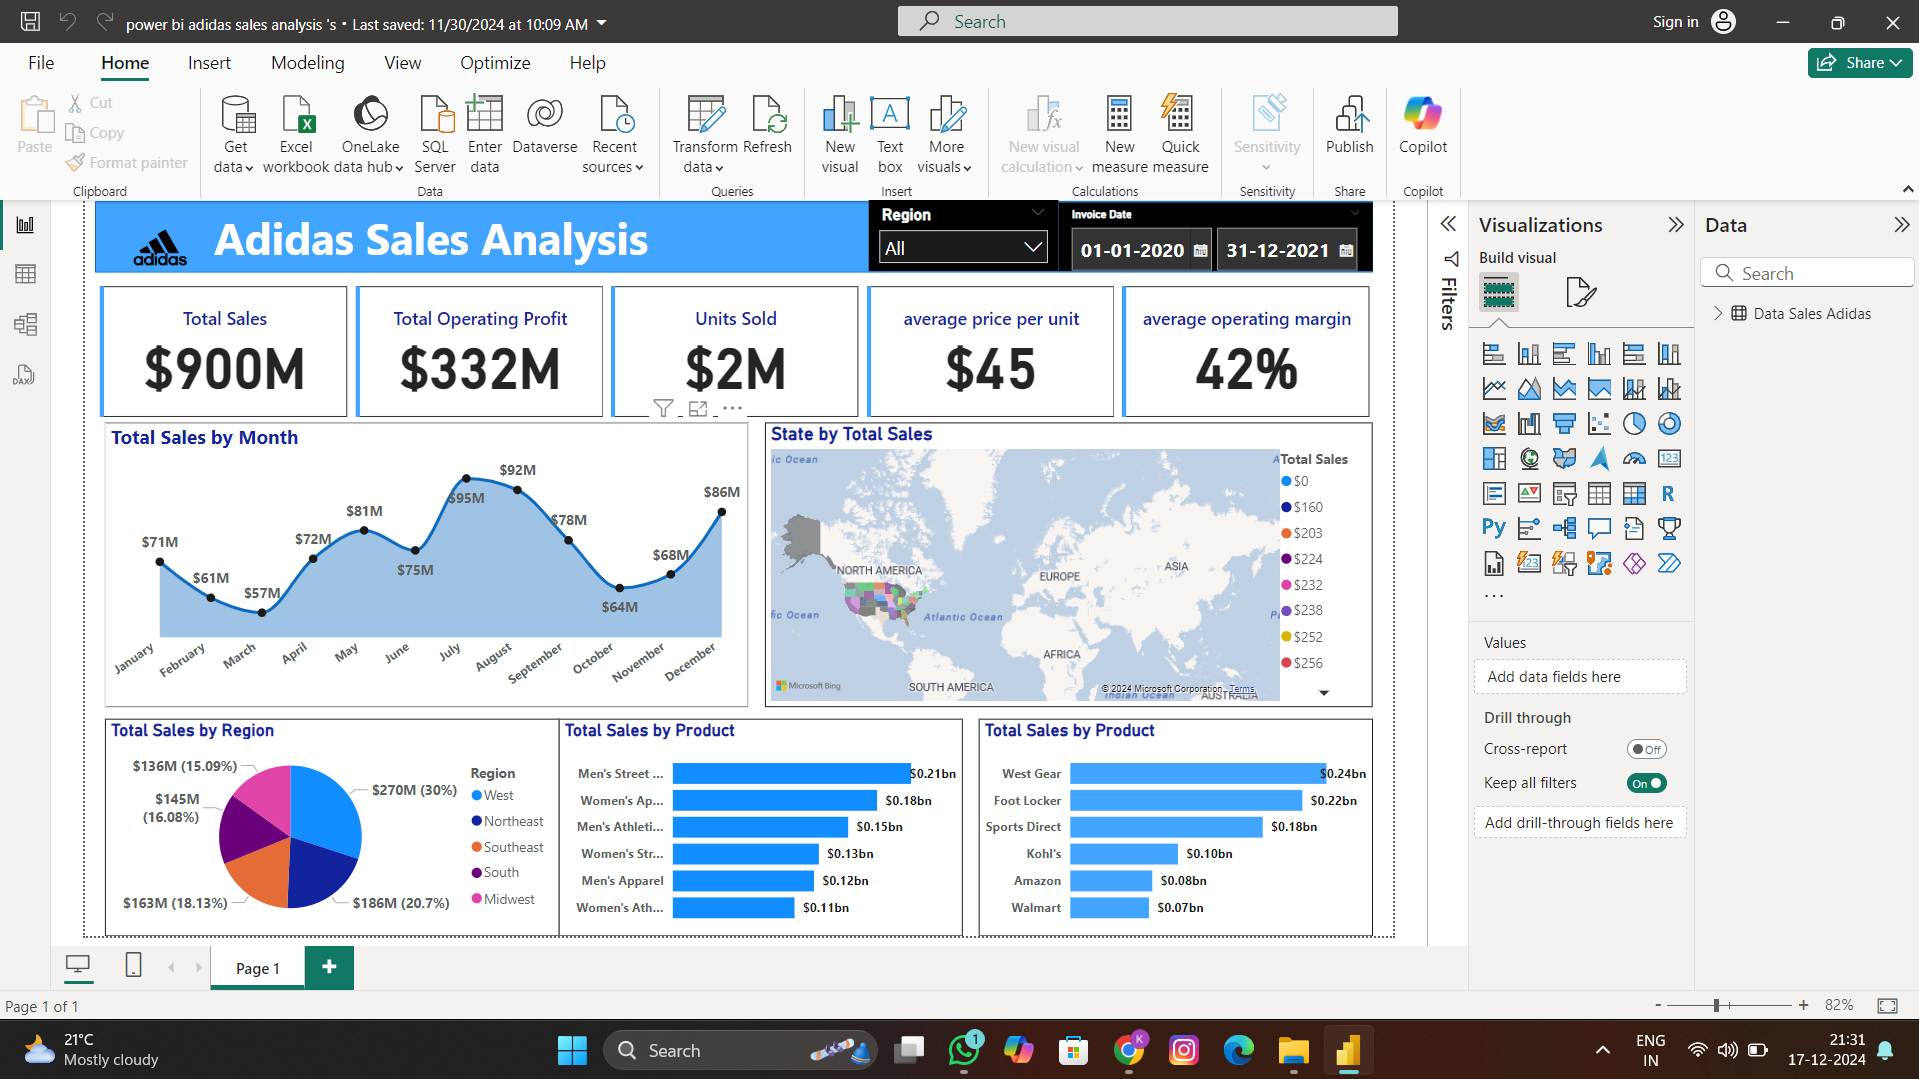

Layout of this report page (visuals, bound fields, positions):
{"tool":"powerbi","page":{"name":"Page 1","canvas":[1280,720],"ordinal":0},"visuals":[{"type":"shape","box":[9.6,1.4,1250.1,70],"z":0},{"type":"textbox","box":[120.8,2.7,518.7,67.2],"z":1000},{"type":"cardVisual","fields":{"Data":["Sum(Data Sales Adidas.Total Sales)","Sum(Data Sales Adidas.Operating Profit)","Sum(Data Sales Adidas.Units Sold)","Data Sales Adidas.average price per unit","Data Sales Adidas.average operating margin"]},"box":[9.6,79.6,1254.2,138.6],"z":2000},{"type":"areaChart","title":" Total Sales by Month","fields":{"Category":["Data Sales Adidas.Invoice Date.Variation.Date Hierarchy.Month"],"Y":["Sum(Data Sales Adidas.Total Sales)"]},"box":[19.2,218.2,629.8,278.6],"z":3000},{"type":"filledMap","title":"State by Total Sales","fields":{"Category":["Data Sales Adidas.State"],"Series":["Data Sales Adidas.Total Sales"]},"box":[665.5,218.2,594.2,278.6],"z":4000},{"type":"pieChart","title":" Total Sales by Region","fields":{"Category":["Data Sales Adidas.Region"],"Y":["Sum(Data Sales Adidas.Total Sales)"]},"box":[19.2,507.7,444.6,212.7],"z":5000},{"type":"barChart","title":" Total Sales by Product","fields":{"Category":["Data Sales Adidas.Product"],"Y":["Sum(Data Sales Adidas.Total Sales)"]},"box":[463.8,507.7,395.2,212.7],"z":6000},{"type":"barChart","title":" Total Sales by Product","fields":{"Category":["Data Sales Adidas.Retailer"],"Y":["Sum(Data Sales Adidas.Total Sales)"]},"box":[874.1,507.7,385.6,212.7],"z":7000},{"type":"slicer","fields":{"Values":["Data Sales Adidas.Region"]},"box":[767.1,0,185.2,70],"z":8000},{"type":"slicer","fields":{"Values":["Data Sales Adidas.Invoice Date"]},"box":[952.3,2.7,307.4,67.2],"z":9000},{"type":"image","box":[42.5,0,61.7,93.3],"z":10000}]}

Visuals, with their boxes on the page's 1280x720 design canvas (x1, y1, x2, y2). These are canvas units, not pixel positions in the 1919x1079 screenshot, which may show the page scaled, cropped or inside an application window:
shape: box=[10, 1, 1260, 71]
textbox: box=[121, 3, 640, 70]
cardVisual - Sum(Data Sales Adidas.Total Sales) x Sum(Data Sales Adidas.Operating Profit): box=[10, 80, 1264, 218]
" Total Sales by Month" areaChart: box=[19, 218, 649, 497]
"State by Total Sales" filledMap: box=[666, 218, 1260, 497]
" Total Sales by Region" pieChart: box=[19, 508, 464, 720]
" Total Sales by Product" barChart: box=[464, 508, 859, 720]
" Total Sales by Product" barChart: box=[874, 508, 1260, 720]
slicer - Data Sales Adidas.Region: box=[767, 0, 952, 70]
slicer - Data Sales Adidas.Invoice Date: box=[952, 3, 1260, 70]
image: box=[42, 0, 104, 93]
